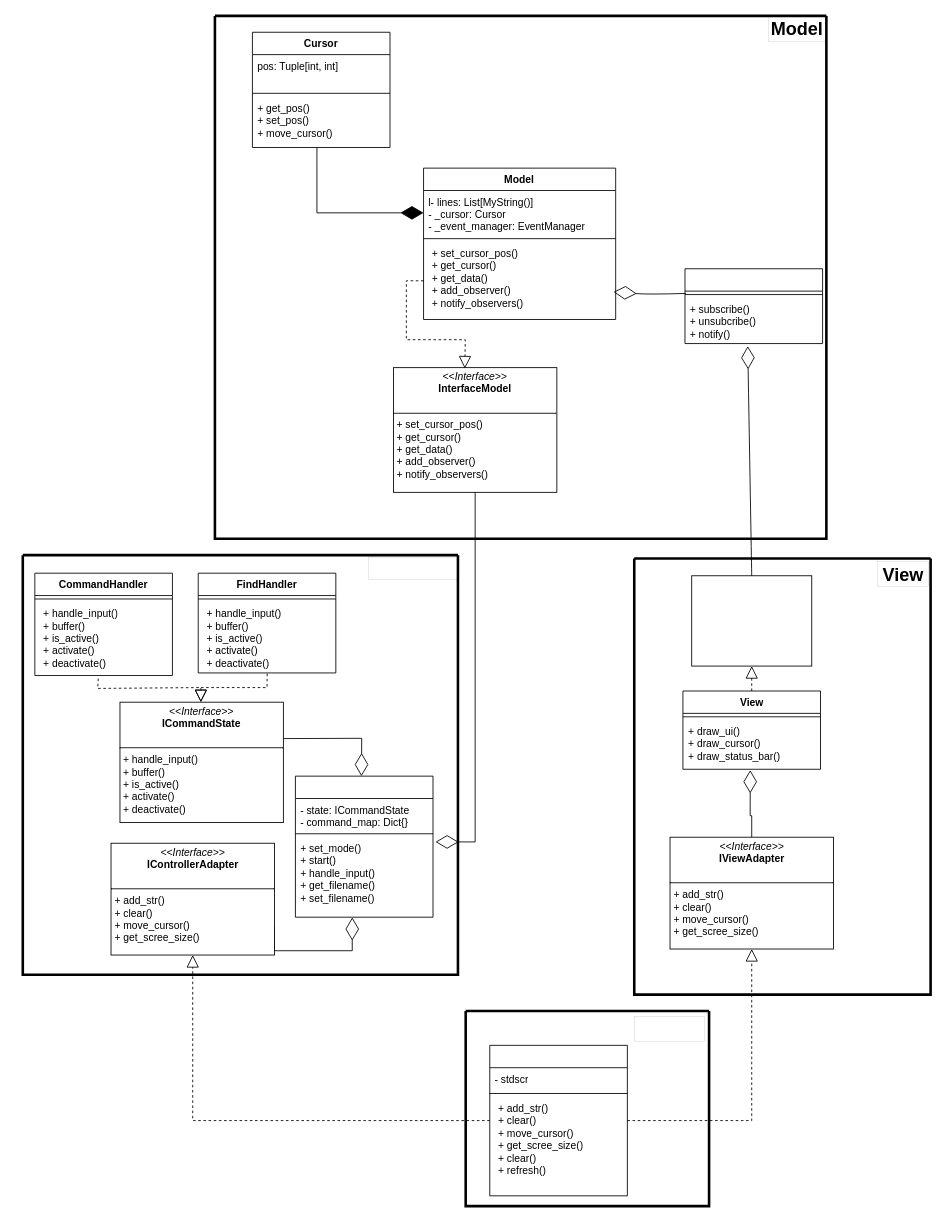
This 947x1222 diagram has some shape labels left out. Here are the shapes that lost their labels. From the top down, the box of each, then its label:
(684, 268, 823, 344): EventManager()
(368, 557, 458, 579): Controller
(691, 575, 812, 666): <<Interface>> EventListener + update()
(295, 775, 433, 917): VimController
(634, 1016, 704, 1041): Adapter
(489, 1044, 627, 1196): CursesAdapter
